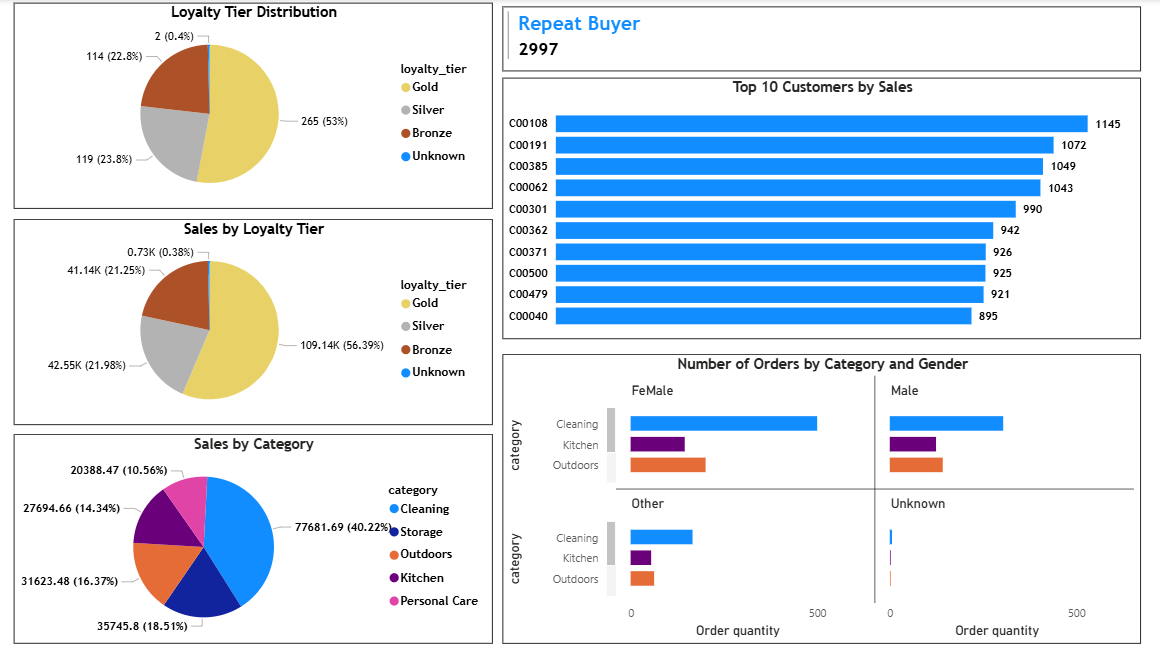

Layout of this report page (visuals, bound fields, positions):
{"tool":"powerbi","page":{"name":"Page 2","canvas":[1280,720],"ordinal":1},"visuals":[{"type":"clusteredBarChart","title":"Top 10 Customers by Sales","fields":{"Category":["customer_info.customer_id"],"Y":["Sales_data.Total Revenue"]},"box":[557.7,86.5,702,287.1],"z":0},{"type":"pieChart","title":"Sales by Loyalty Tier","fields":{"Category":["customer_info.loyalty_tier"],"Y":["Sales_data.sales from complete delivery"]},"box":[20.9,241.8,526.1,226.7],"z":1000},{"type":"barChart","title":"Number of Orders by Category and Gender","fields":{"Category":["product_info.category"],"Rows":["customer_info.gender"],"Y":["Sales_data.Complete orders"]},"box":[557.7,390.1,702,318.7],"z":2000},{"type":"multiRowCard","fields":{"Values":["Sales_data.order_id","Sales_data.Measure"]},"box":[557.7,8.2,702,71.4],"z":3000},{"type":"pieChart","title":"Loyalty Tier Distribution","fields":{"Category":["customer_info.loyalty_tier"],"Y":["CountNonNull(customer_info.loyalty_tier)"]},"box":[20.9,4.1,526.1,226.7],"z":4000},{"type":"pieChart","title":"Sales by Category","fields":{"Category":["product_info.category"],"Y":["Sales_data.Total Revenue"]},"box":[20.6,478,526.1,230.8],"z":5000}]}

Visuals, with their boxes in screenshot pixels (x1, y1, x2, y2), scaled from the page's 1280x720 canvas onto the 1160x653 screenshot:
"Top 10 Customers by Sales" clusteredBarChart: select_region(505, 78, 1142, 339)
"Sales by Loyalty Tier" pieChart: select_region(19, 219, 496, 425)
"Number of Orders by Category and Gender" barChart: select_region(505, 354, 1142, 643)
multiRowCard - Sales_data.order_id x Sales_data.Measure: select_region(505, 7, 1142, 72)
"Loyalty Tier Distribution" pieChart: select_region(19, 4, 496, 209)
"Sales by Category" pieChart: select_region(19, 434, 495, 643)
